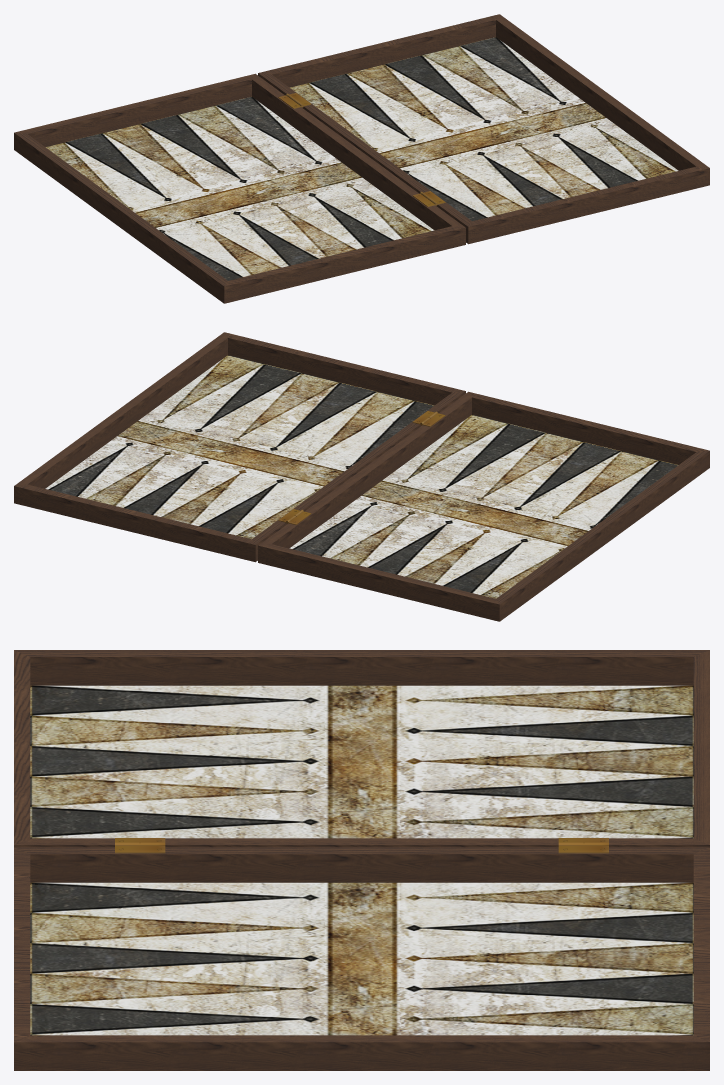
Rendered from board.glb.
3 renders of one model, top to bottom at view 1: azimuth 30°, elevation 25°; view 2: azimuth 150°, elevation 25°; view 3: azimuth 270°, elevation 25°, orthographic. The views are drawn at different scales.
Visible parts, largest first — view 1: board; view 2: board; view 3: board.
Boxes of the visible parts, bbox=[...] form: board: bbox=[14, 14, 709, 303]; board: bbox=[14, 332, 709, 621]; board: bbox=[14, 650, 709, 1070].
Bounding box in the file's own units: 0.736 × 0.028 × 0.552.
3 materials, 3 textured.
